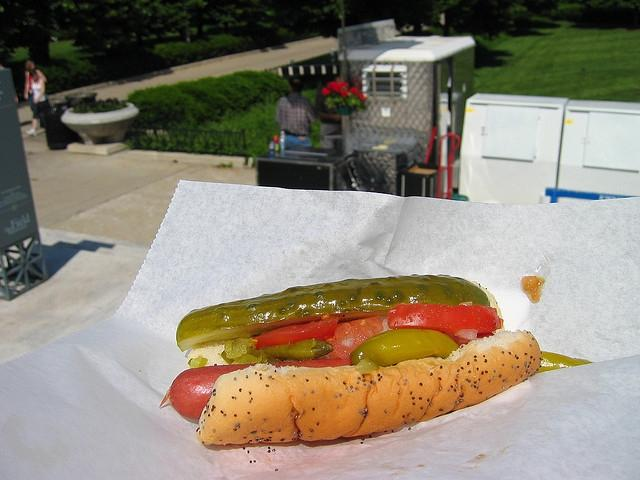tomato: (388, 304, 503, 334), (250, 316, 338, 350), (328, 316, 384, 360)
